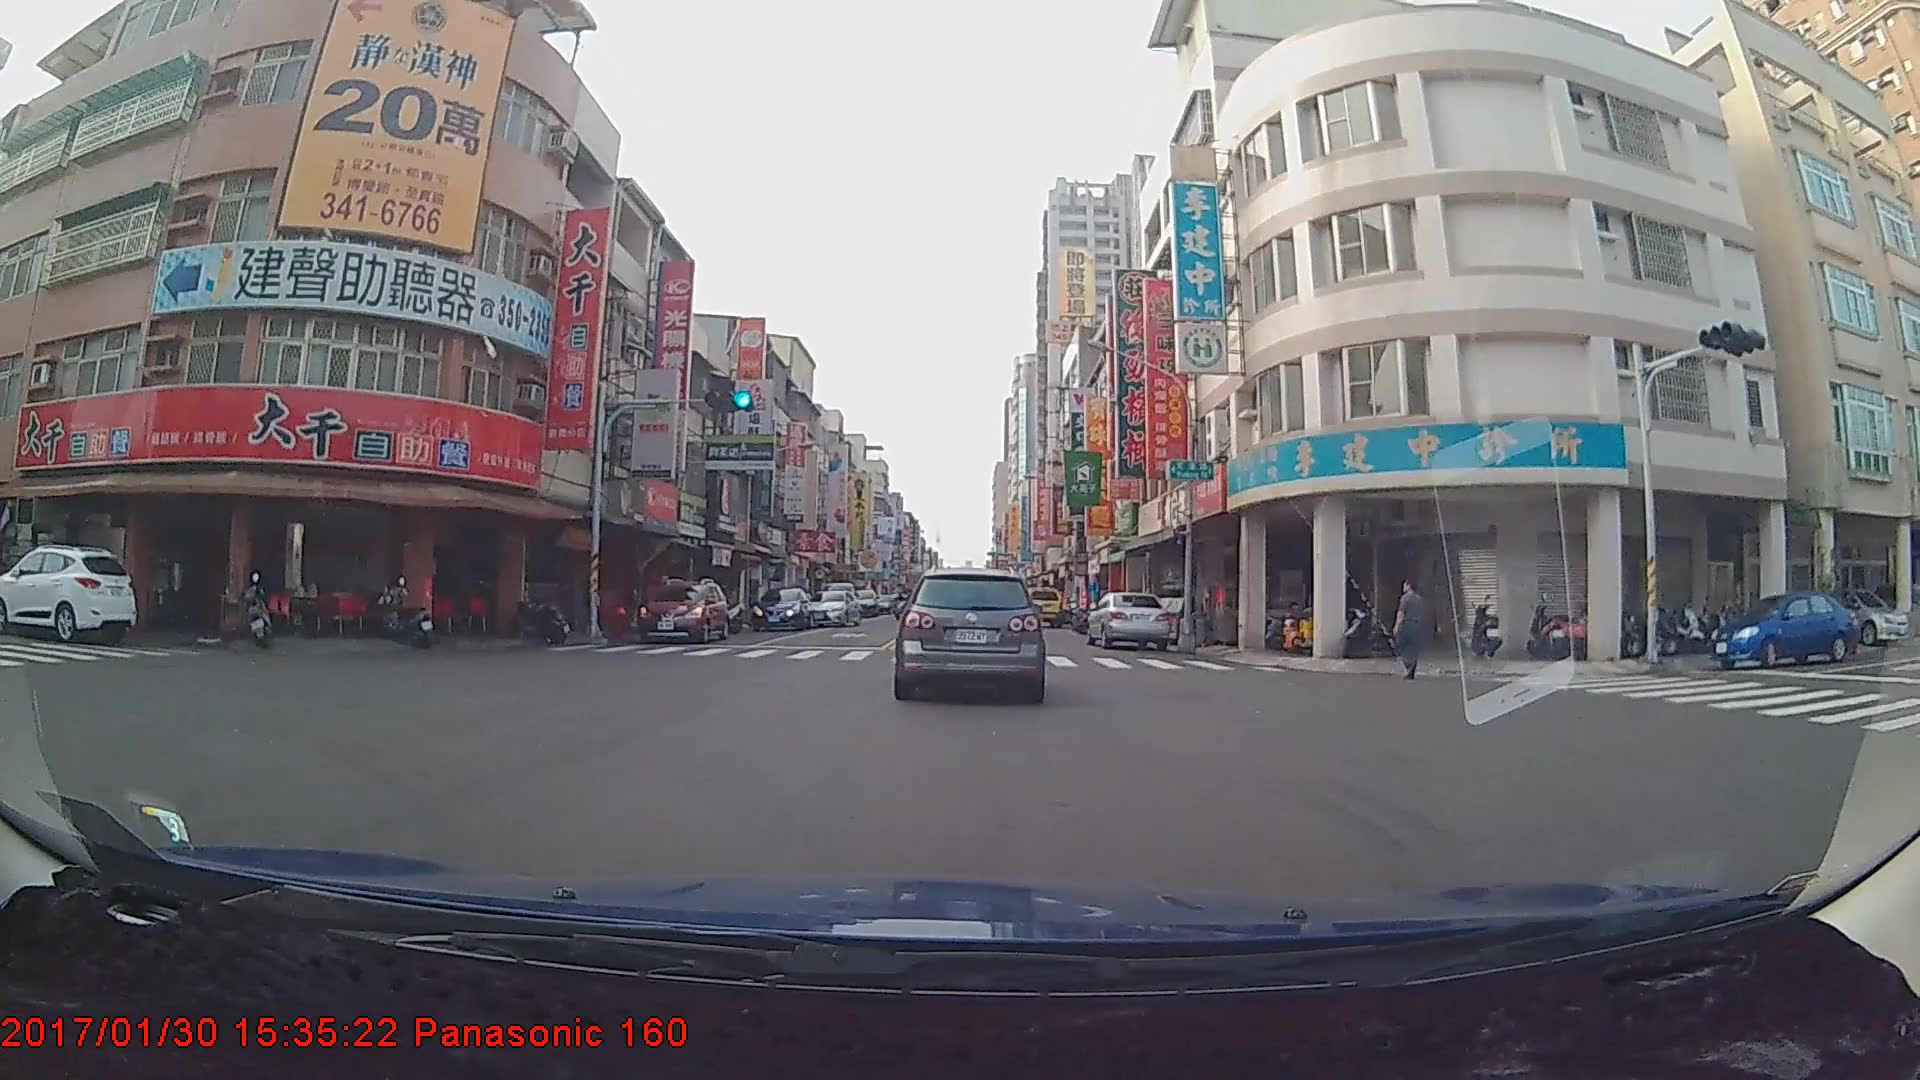pedestrian: (1390, 581, 1430, 683)
vehicle: (896, 567, 1044, 701), (0, 544, 135, 644), (1707, 590, 1859, 671), (1817, 573, 1914, 653), (637, 578, 730, 641), (1086, 591, 1170, 651), (747, 587, 812, 633), (808, 586, 861, 628), (1018, 585, 1064, 628)
